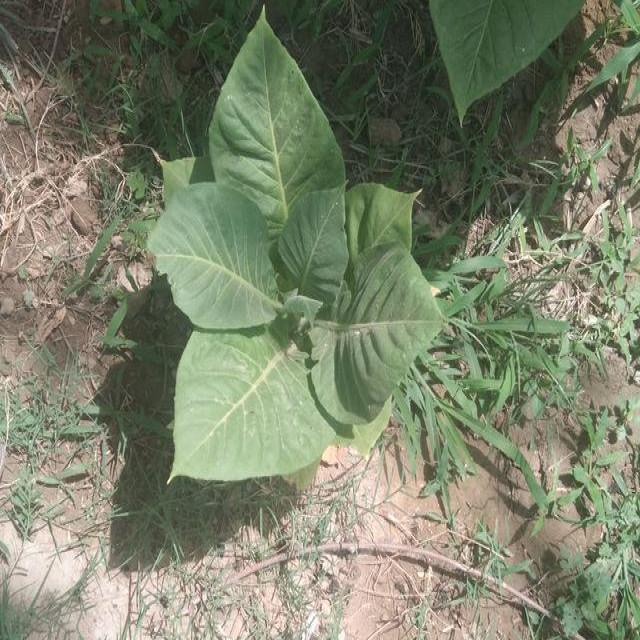crop: (140, 7, 456, 496)
